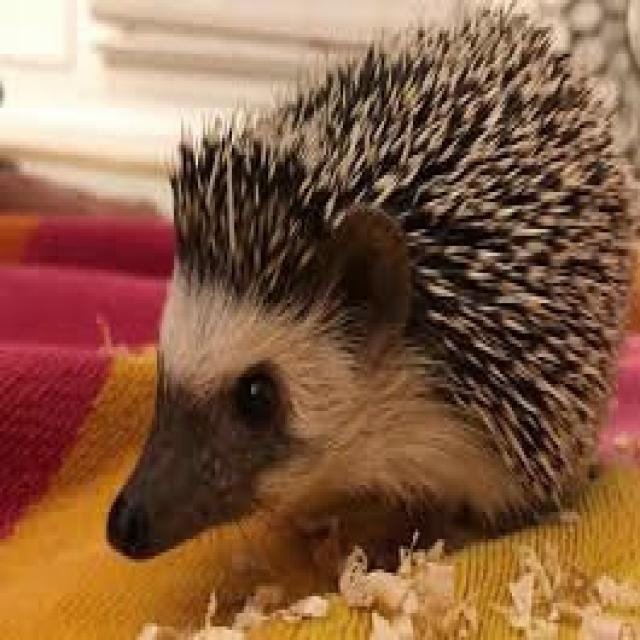hedgehog: (106, 7, 638, 556)
